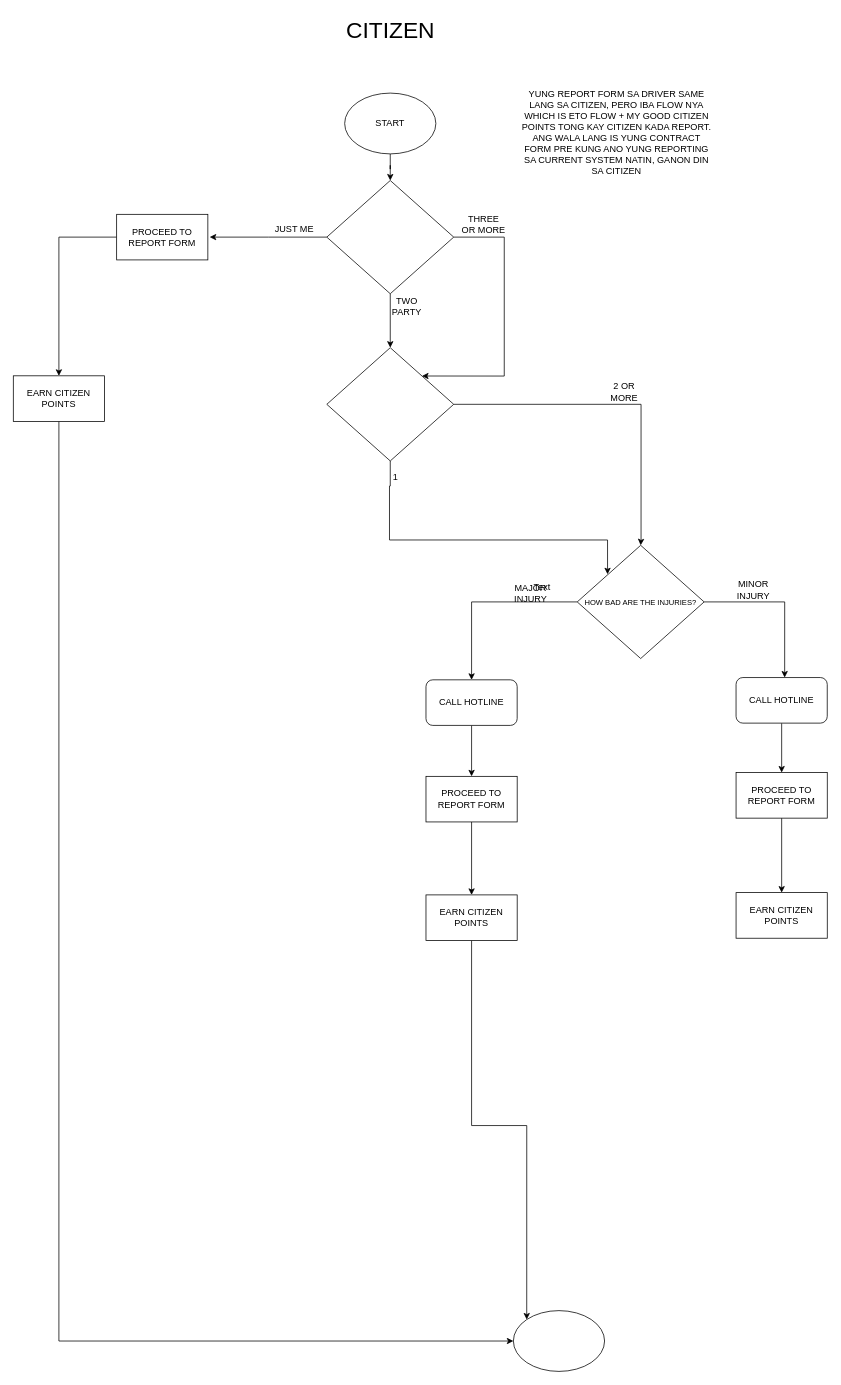
Some shapes in this 841 by 1385 pixel diagram are drawn without their labels. Here are the shapes that lost their labels. From the top down, the centre of each, then its label:
At (x=390, y=237): "HOW MANY PEOPLE ARE INVOLVED IN THE ACCIDENT?".
At (x=390, y=404): "HOW MANY PEOPLE ARE INJURED?".
At (x=559, y=1340): "END".
